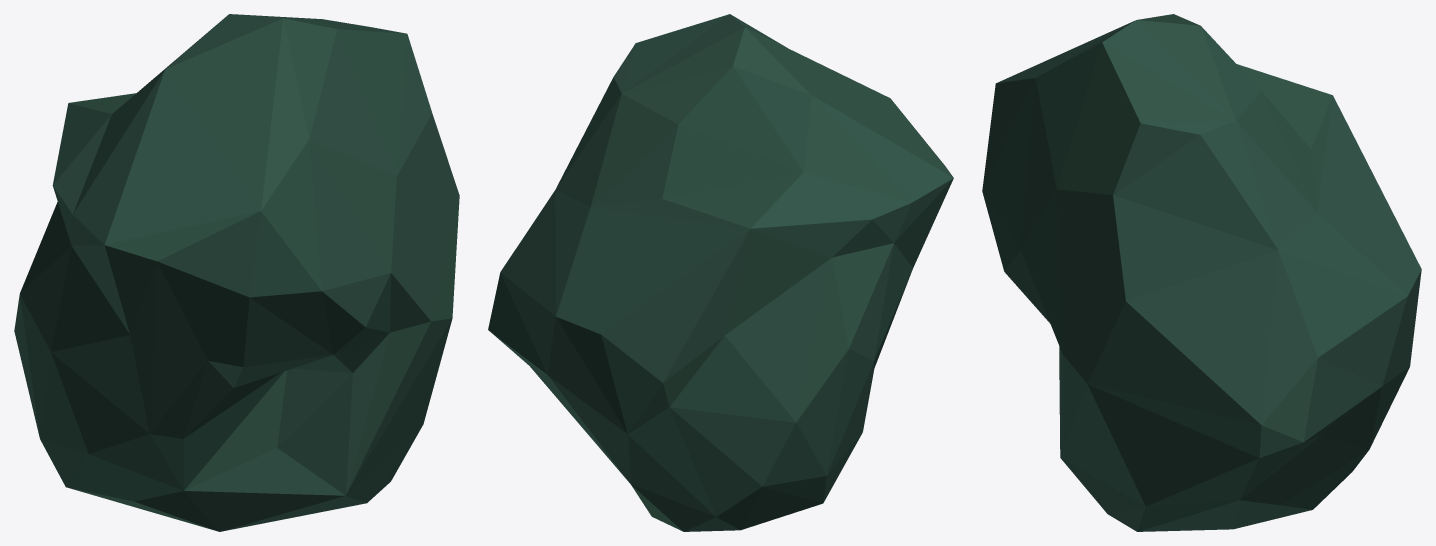
Rendered from SM_large_rock_20.fbx.
The picture shows the model from 3 angles, left to right: view 1: azimuth 30°, elevation 25°; view 2: azimuth 150°, elevation 25°; view 3: azimuth 270°, elevation 25°; orthographic projection. The views are drawn at different scales.
Visible parts, largest first — view 1: large_rock_20; view 2: large_rock_20; view 3: large_rock_20.
Boxes of the visible parts, x1,y1,x2,y2 form: large_rock_20: (14,14,459,531); large_rock_20: (488,14,953,531); large_rock_20: (982,14,1421,531).
Size of the model in its own units: 46.61 by 55.2 by 43.07.
